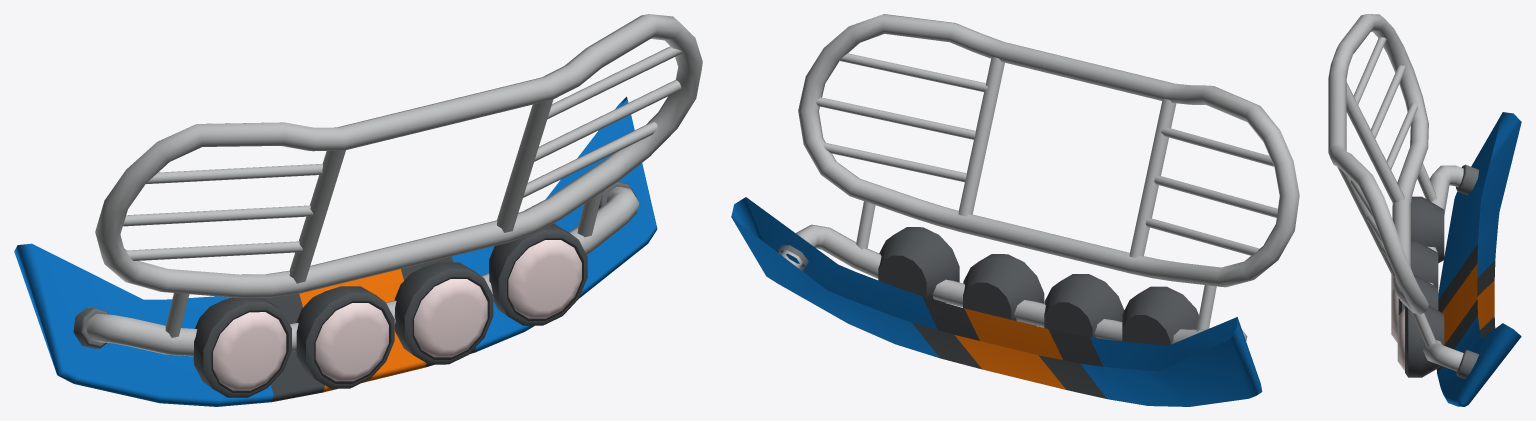
The model's file is Car_11_FrontBumper_Cool.fbx.
3 renders of one model, left to right at view 1: azimuth 30°, elevation 25°; view 2: azimuth 150°, elevation 25°; view 3: azimuth 270°, elevation 25°, orthographic. The views are drawn at different scales.
Visible parts, largest first — view 1: Car_11_FrontBumper_Cool; view 2: Car_11_FrontBumper_Cool; view 3: Car_11_FrontBumper_Cool.
Boxes of the visible parts, x1=… form: Car_11_FrontBumper_Cool: x1=14, y1=14, x2=702, y2=406; Car_11_FrontBumper_Cool: x1=731, y1=14, x2=1299, y2=406; Car_11_FrontBumper_Cool: x1=1328, y1=14, x2=1521, y2=406.
Bounding box in the file's own units: 144 × 54.5 × 78.63.
